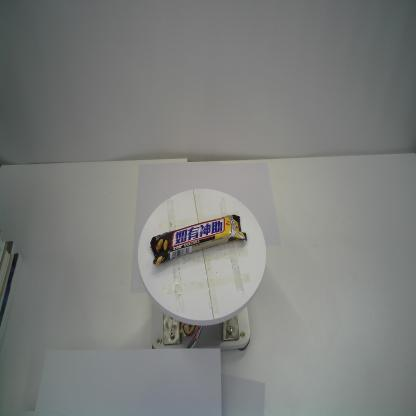Chocolate: (150, 214, 248, 266)
